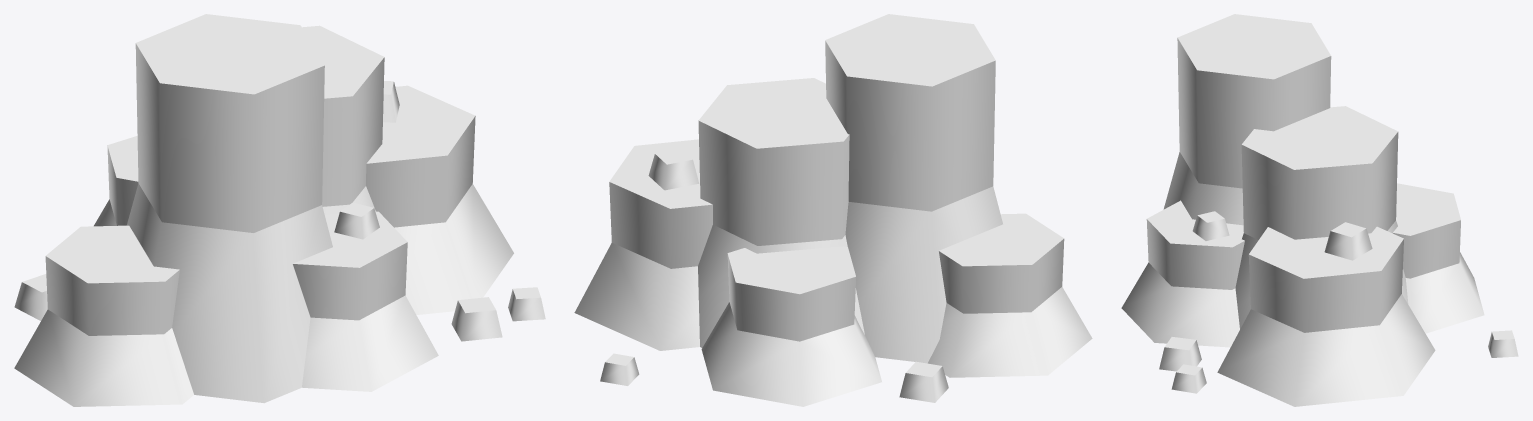
File: rocks-a.glb
3 views of the same model, side by side, from view 1: azimuth 30°, elevation 25°; view 2: azimuth 150°, elevation 25°; view 3: azimuth 270°, elevation 25° (orthographic). The views are drawn at different scales.
Visible parts, largest first — view 1: rocks-a; view 2: rocks-a; view 3: rocks-a.
Part boxes in pixels (left/top/right/bottom): rocks-a: left=14, top=14, right=545, bottom=406; rocks-a: left=574, top=14, right=1092, bottom=406; rocks-a: left=1121, top=14, right=1518, bottom=406.
Size of the model in its own units: 5.11 by 2.9 by 4.39.
Materials: 1 (1 with a texture image).
